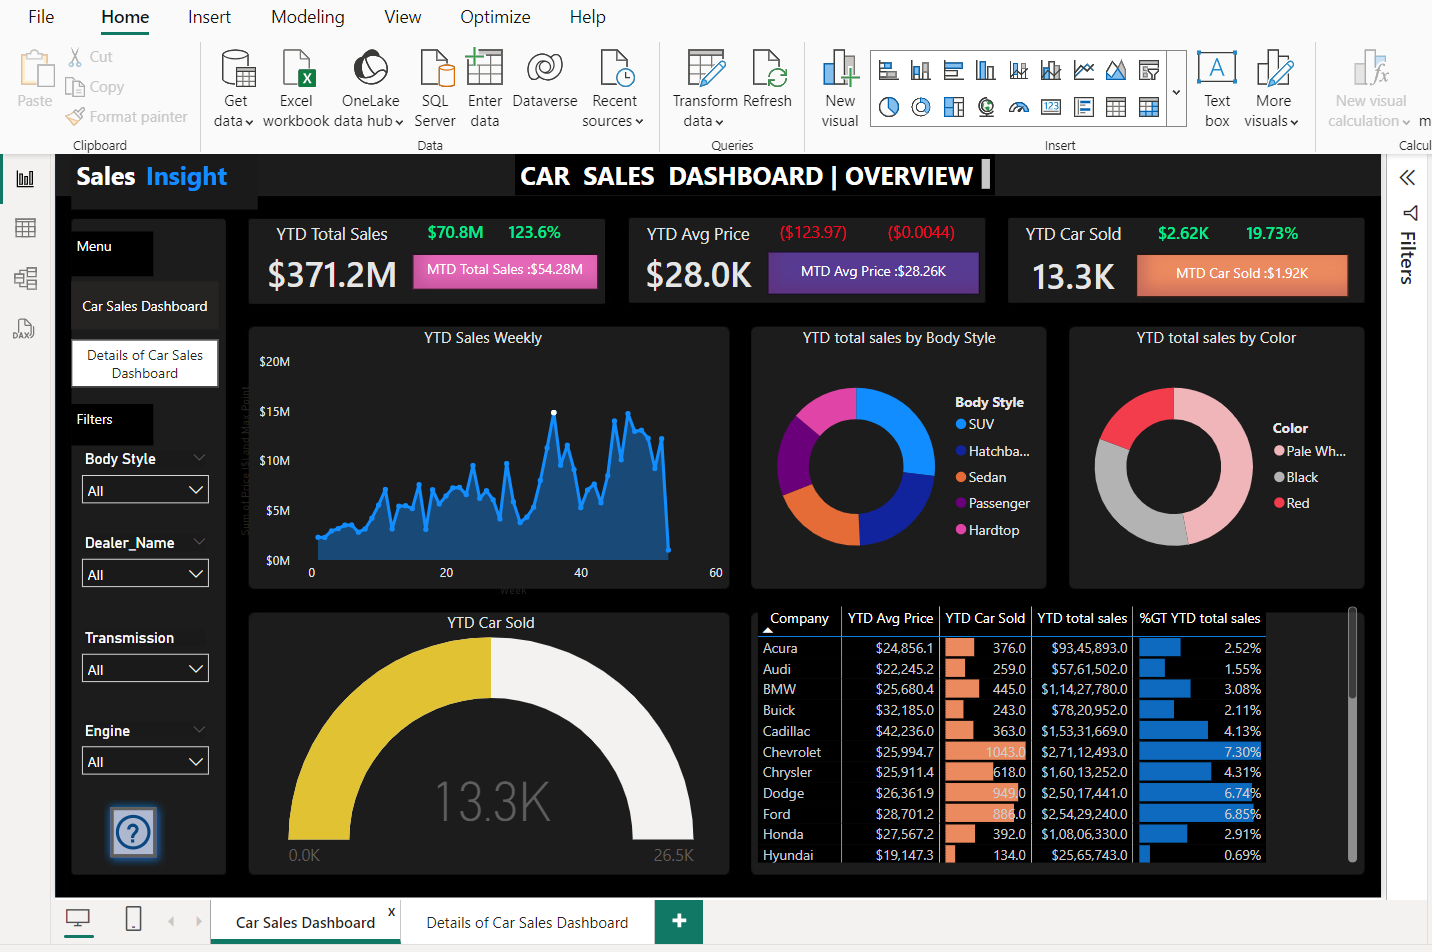

Layout of this report page (visuals, bound fields, positions):
{"tool":"powerbi","page":{"name":"Car Sales Dashboard","canvas":[1280,720],"ordinal":0},"visuals":[{"type":"card","title":"YTD Total Sales","fields":{"Values":["car_data.YTD total sales"]},"box":[189,64.9,155.8,79.4],"z":0},{"type":"card","fields":{"Values":["car_data.Sales Difference"]},"box":[339,53.4,95.2,49.1],"z":1000},{"type":"card","fields":{"Values":["car_data.YOY Sales Growth"]},"box":[419.8,54.8,86.6,46.2],"z":2000},{"type":"card","fields":{"Values":["car_data.MTD KPI"]},"box":[344.8,96.7,178.9,34.6],"z":3000},{"type":"card","title":"YTD Avg Price","fields":{"Values":["car_data.YTD Avg Price"]},"box":[542.5,64.9,155.8,79.4],"z":4000},{"type":"card","fields":{"Values":["car_data.Avg Price Diff"]},"box":[673.8,54.8,116.9,46.2],"z":5000},{"type":"card","fields":{"Values":["car_data.YOY Avg Price Growth"]},"box":[777.6,53.4,115.4,49.1],"z":6000},{"type":"card","fields":{"Values":["car_data.MTD AVG Price KPI"]},"box":[688.2,93.8,204.9,41.8],"z":7000},{"type":"card","title":"YTD Car Sold","fields":{"Values":["car_data.YTD Car Sold"]},"box":[907.5,64.9,151.5,83.7],"z":8000},{"type":"card","fields":{"Values":["car_data.Car Sold Diff"]},"box":[1043.1,59.2,90.9,39],"z":9000},{"type":"card","fields":{"Values":["car_data.YOY Car Sold Growth"]},"box":[1121,59.2,108.2,39],"z":10000},{"type":"card","fields":{"Values":["car_data.MTD Car Sold KPI"]},"box":[1043.1,96.7,204.9,41.8],"z":11000},{"type":"areaChart","title":"YTD Sales Weekly","fields":{"Y":["Sum(car_data.Price ($))","car_data.Max Point"],"Category":["Calender Table.Week"]},"box":[173.1,165.9,479,265.5],"z":12000},{"type":"donutChart","fields":{"Category":["car_data.Body Style"],"Y":["car_data.YTD total sales"]},"box":[673.2,166.5,283.5,250.9],"z":13000},{"type":"donutChart","fields":{"Y":["car_data.YTD total sales"],"Category":["car_data.Color"]},"box":[979.6,165.9,282.8,251],"z":14000},{"type":"map","fields":{"Category":["car_data.Dealer_Region"],"Size":["car_data.YTD Car Sold"]},"box":[189.4,441.6,463.3,257],"z":15000},{"type":"tableEx","fields":{"Values":["car_data.Company","car_data.YTD Avg Price","car_data.YTD Car Sold","car_data.YTD total sales","Divide(car_data.YTD total sales, ScopedEval(car_data.YTD total sales, []))"]},"box":[672.3,431.4,590.1,256.8],"z":16000},{"type":"textbox","box":[444.4,0,463.1,40.4],"z":16001},{"type":"slicer","fields":{"Values":["car_data.Body Style"]},"box":[15.9,281.3,142.8,79.4],"z":16002},{"type":"slicer","fields":{"Values":["car_data.Dealer_Name"]},"box":[15.9,362.1,142.8,79.4],"z":16003},{"type":"slicer","fields":{"Values":["car_data.Transmission"]},"box":[15.9,453,142.8,79.4],"z":16004},{"type":"slicer","fields":{"Values":["car_data.Engine"]},"box":[15.9,542.5,142.8,79.4],"z":16005},{"type":"textbox","box":[15.9,240.9,79.4,40.4],"z":16006},{"type":"textbox","box":[15.9,0,180.3,53.4],"z":16007},{"type":"pageNavigator","box":[15.9,122.6,142.8,103.9],"z":16008},{"type":"textbox","box":[15.9,75,79.4,43.3],"z":16009},{"type":"actionButton","box":[44.7,621.8,62,66.4],"z":16010}]}

Visuals, with their boxes on the page's 1280x720 design canvas (x1, y1, x2, y2). These are canvas units, not pixel positions in the 1432x952 screenshot, which may show the page scaled, cropped or inside an application window:
"YTD Total Sales" card: 189:65:345:144
card - car_data.Sales Difference: 339:53:434:102
card - car_data.YOY Sales Growth: 420:55:506:101
card - car_data.MTD KPI: 345:97:524:131
"YTD Avg Price" card: 542:65:698:144
card - car_data.Avg Price Diff: 674:55:791:101
card - car_data.YOY Avg Price Growth: 778:53:893:102
card - car_data.MTD AVG Price KPI: 688:94:893:136
"YTD Car Sold" card: 908:65:1059:149
card - car_data.Car Sold Diff: 1043:59:1134:98
card - car_data.YOY Car Sold Growth: 1121:59:1229:98
card - car_data.MTD Car Sold KPI: 1043:97:1248:138
"YTD Sales Weekly" areaChart: 173:166:652:431
donutChart - car_data.Body Style x car_data.YTD total sales: 673:166:957:417
donutChart - car_data.YTD total sales x car_data.Color: 980:166:1262:417
map - car_data.Dealer_Region x car_data.YTD Car Sold: 189:442:653:699
tableEx - car_data.Company x car_data.YTD Avg Price: 672:431:1262:688
textbox: 444:0:908:40
slicer - car_data.Body Style: 16:281:159:361
slicer - car_data.Dealer_Name: 16:362:159:442
slicer - car_data.Transmission: 16:453:159:532
slicer - car_data.Engine: 16:542:159:622
textbox: 16:241:95:281
textbox: 16:0:196:53
pageNavigator: 16:123:159:226
textbox: 16:75:95:118
actionButton: 45:622:107:688
